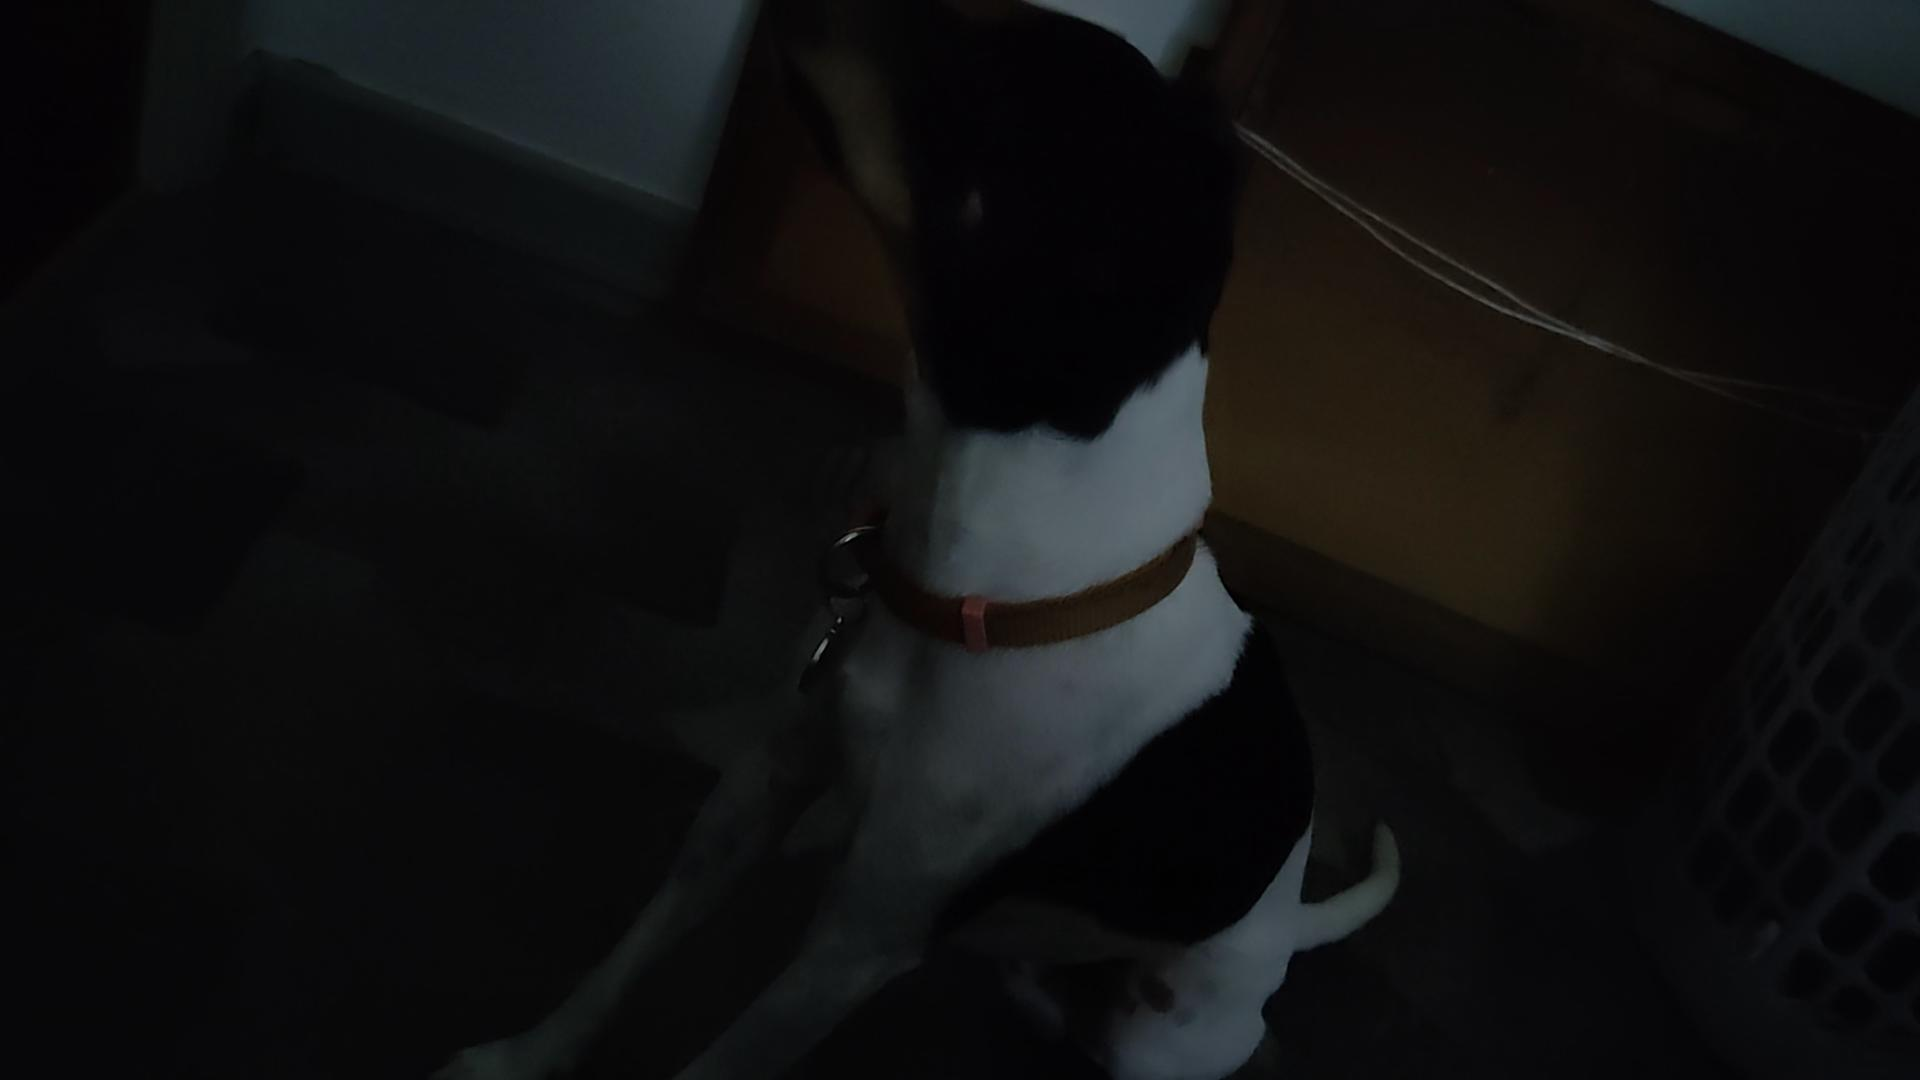Dog: (435, 0, 1418, 1079)
